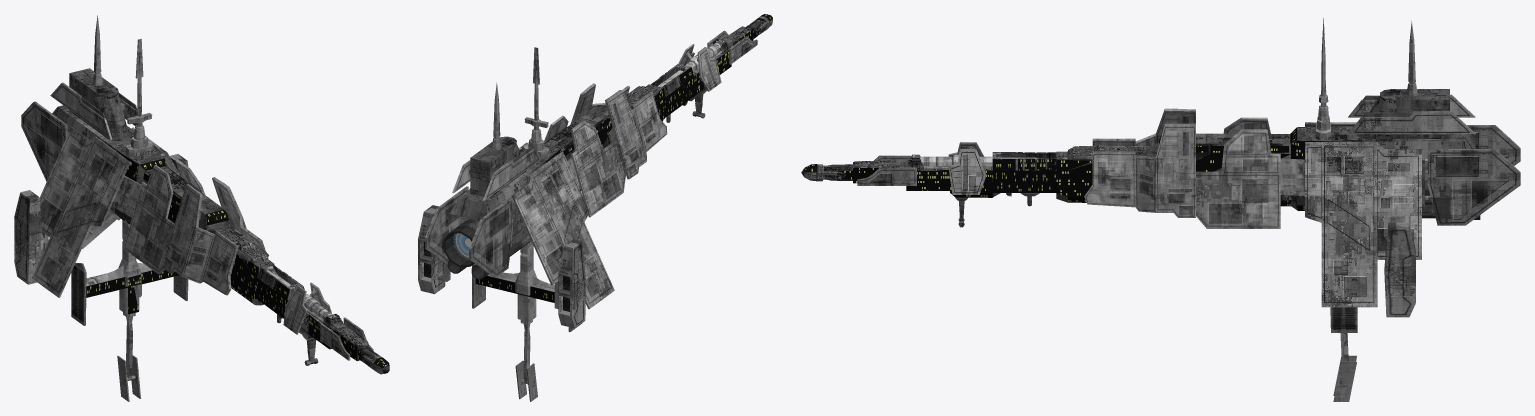
The model's file is sth_fly_derriphan.glb.
3 renders of one model, left to right at view 1: azimuth 30°, elevation 25°; view 2: azimuth 150°, elevation 25°; view 3: azimuth 270°, elevation 25°, orthographic. The views are drawn at different scales.
Visible parts, largest first — view 1: sth_fly_derriphan_0, lights1_0; view 2: sth_fly_derriphan_0, lights1_0; view 3: sth_fly_derriphan_0, lights1_0.
Part boxes in pixels (left/top/right/bottom): sth_fly_derriphan_0: left=14, top=15, right=389, bottom=401; lights1_0: left=86, top=94, right=389, bottom=368; sth_fly_derriphan_0: left=418, top=16, right=772, bottom=401; lights1_0: left=454, top=14, right=772, bottom=302; sth_fly_derriphan_0: left=801, top=18, right=1520, bottom=401; lights1_0: left=804, top=98, right=1394, bottom=210.
Size of the model in its own units: 124 by 263 by 447.
Materials: 2 (2 with a texture image).
